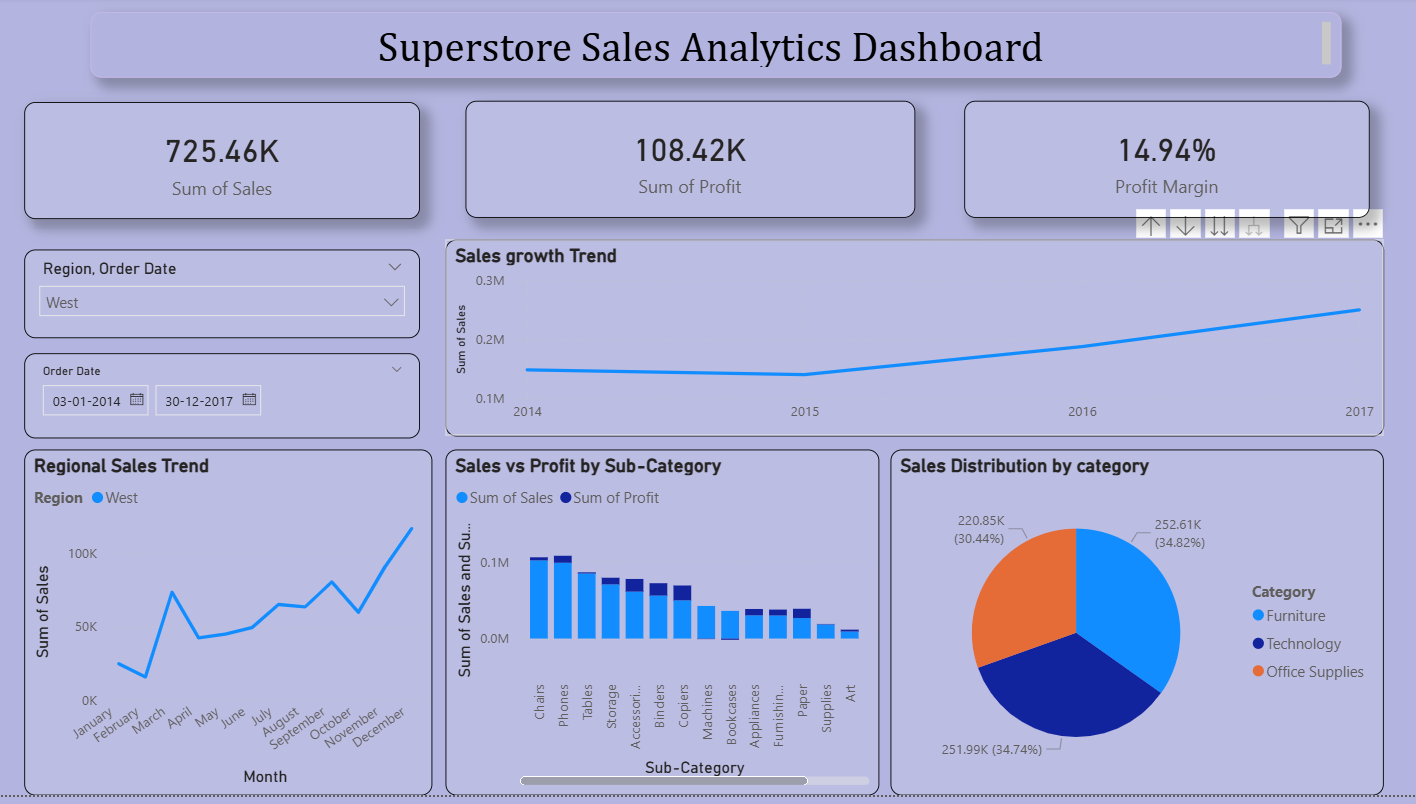

The dashboard page shown, as its layout file describes it:
{"tool":"powerbi","page":{"name":"Page 1","canvas":[1280,720],"ordinal":0},"visuals":[{"type":"lineChart","title":"Regional Sales Performance","fields":{"Category":["Sample - Superstore.Region"],"Y":["Sum(Sample - Superstore.Sales)"]},"box":[11,446.4,379.1,273.4],"z":0},{"type":"pieChart","title":"Sales by Category","fields":{"Category":["Sample - Superstore.Category"],"Y":["Sum(Sample - Superstore.Sales)"]},"box":[813.2,443.7,391.5,276.1],"z":1000},{"type":"card","fields":{"Values":["Sum(Sample - Superstore.Sales)"]},"box":[13.7,90.7,357.2,105.8],"z":2000},{"type":"stackedAreaChart","title":"Sales by Order Date","fields":{"Category":["Sample - Superstore.Order Date"],"Y":["Sum(Sample - Superstore.Sales)"]},"box":[821.9,228.3,376.7,194.1],"z":3000},{"type":"slicer","fields":{"Values":["Sample - Superstore.Region","Sample - Superstore.Order Date"]},"box":[14.3,228.3,375.3,194.1],"z":4000},{"type":"columnChart","fields":{"Y":["Sum(Sample - Superstore.Sales)","Sum(Sample - Superstore.Profit)"]},"box":[421.7,445.1,361.3,274.7],"z":5000},{"type":"card","fields":{"Values":["Sample - Superstore.Profit Margin"]},"box":[827,90.7,365.4,105.8],"z":6000},{"type":"card","fields":{"Values":["Sum(Sample - Superstore.Profit)"]},"box":[399.7,90.7,405.2,105.8],"z":7000},{"type":"slicer","fields":{"Values":["Sample - Superstore.Order Date"]},"box":[399.6,228.3,405.3,194.1],"z":8000}]}

Visuals, with their boxes in screenshot pixels (x1, y1, x2, y2), scaled from the page's 1280x720 canvas onto the 1416x804 screenshot:
"Regional Sales Performance" lineChart: (12, 498, 432, 803)
"Sales by Category" pieChart: (900, 495, 1333, 803)
card - Sum(Sample - Superstore.Sales): (15, 101, 410, 219)
"Sales by Order Date" stackedAreaChart: (909, 255, 1326, 472)
slicer - Sample - Superstore.Region x Sample - Superstore.Order Date: (16, 255, 431, 472)
columnChart - Sum(Sample - Superstore.Sales) x Sum(Sample - Superstore.Profit): (467, 497, 866, 803)
card - Sample - Superstore.Profit Margin: (915, 101, 1319, 219)
card - Sum(Sample - Superstore.Profit): (442, 101, 890, 219)
slicer - Sample - Superstore.Order Date: (442, 255, 890, 472)
